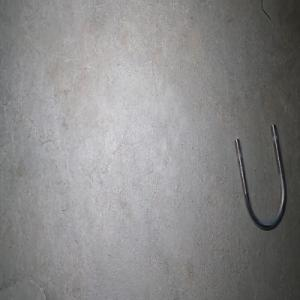ClampPart: (233, 122, 287, 231)
